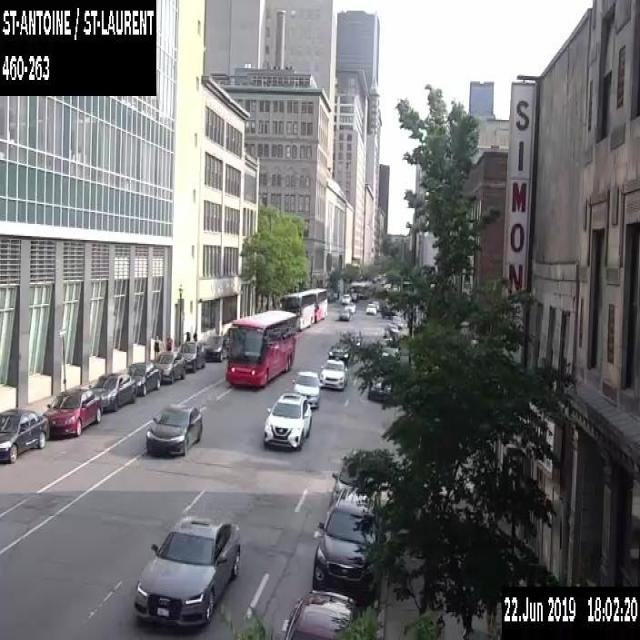bus: (225, 309, 296, 384), (281, 290, 314, 330), (302, 287, 327, 321)
pedestrian: (153, 335, 159, 356), (165, 334, 172, 349), (192, 330, 198, 341), (185, 329, 190, 340)
vehicle: (134, 515, 240, 632), (311, 486, 378, 595), (284, 588, 355, 638), (144, 402, 202, 458), (42, 387, 102, 435), (263, 391, 312, 447), (0, 407, 49, 462), (330, 460, 378, 506), (90, 372, 136, 411), (291, 370, 323, 407), (126, 361, 160, 394), (154, 350, 185, 382), (319, 356, 348, 389), (177, 340, 206, 370), (203, 334, 228, 360), (368, 375, 391, 400), (328, 339, 350, 362), (340, 328, 363, 346), (381, 344, 400, 361), (384, 322, 398, 337), (338, 307, 351, 320), (390, 314, 402, 328), (344, 301, 356, 312), (365, 302, 375, 314), (370, 299, 380, 310), (341, 292, 351, 302)
